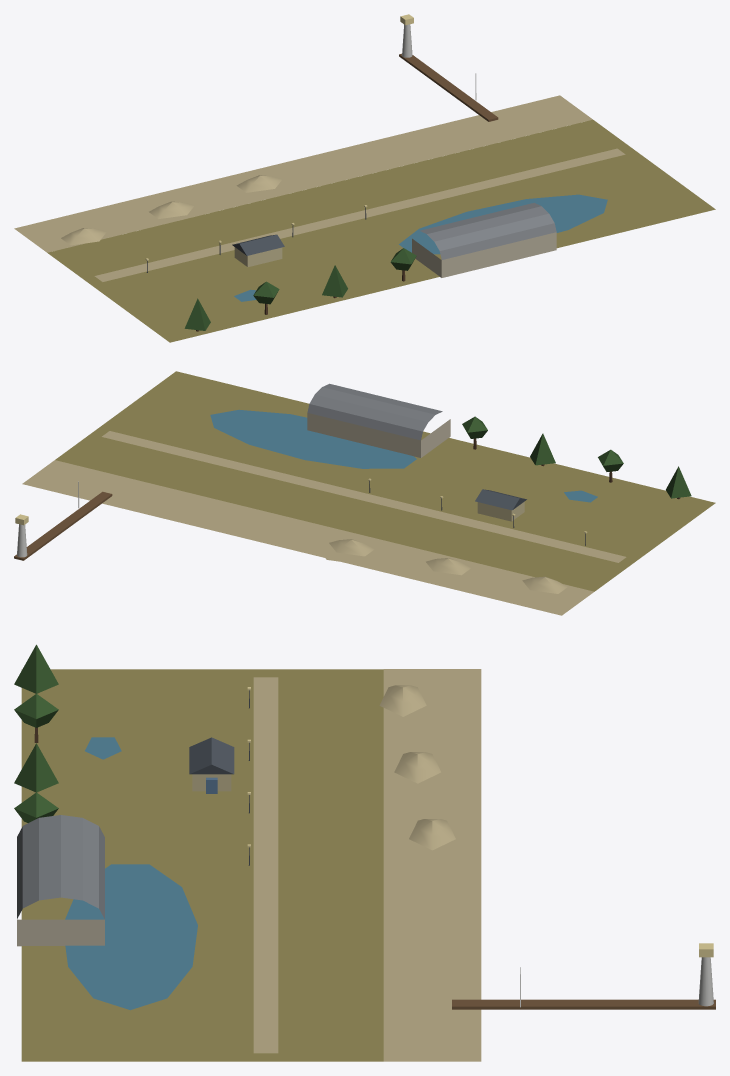
File: mobile.glb
3 renders of one model, top to bottom at view 1: azimuth 30°, elevation 25°; view 2: azimuth 150°, elevation 25°; view 3: azimuth 270°, elevation 25°, orthographic. The views are drawn at different scales.
Parts seen in each view (by area): view 1: lm.crissy-field; view 2: lm.crissy-field; view 3: lm.crissy-field.
Boxes of the visible parts, left/top/right/bottom form: lm.crissy-field: left=14, top=14, right=715, bottom=342; lm.crissy-field: left=14, top=371, right=715, bottom=615; lm.crissy-field: left=14, top=644, right=715, bottom=1061.
Bounding box in the file's own units: 190 × 15.2 × 144.
